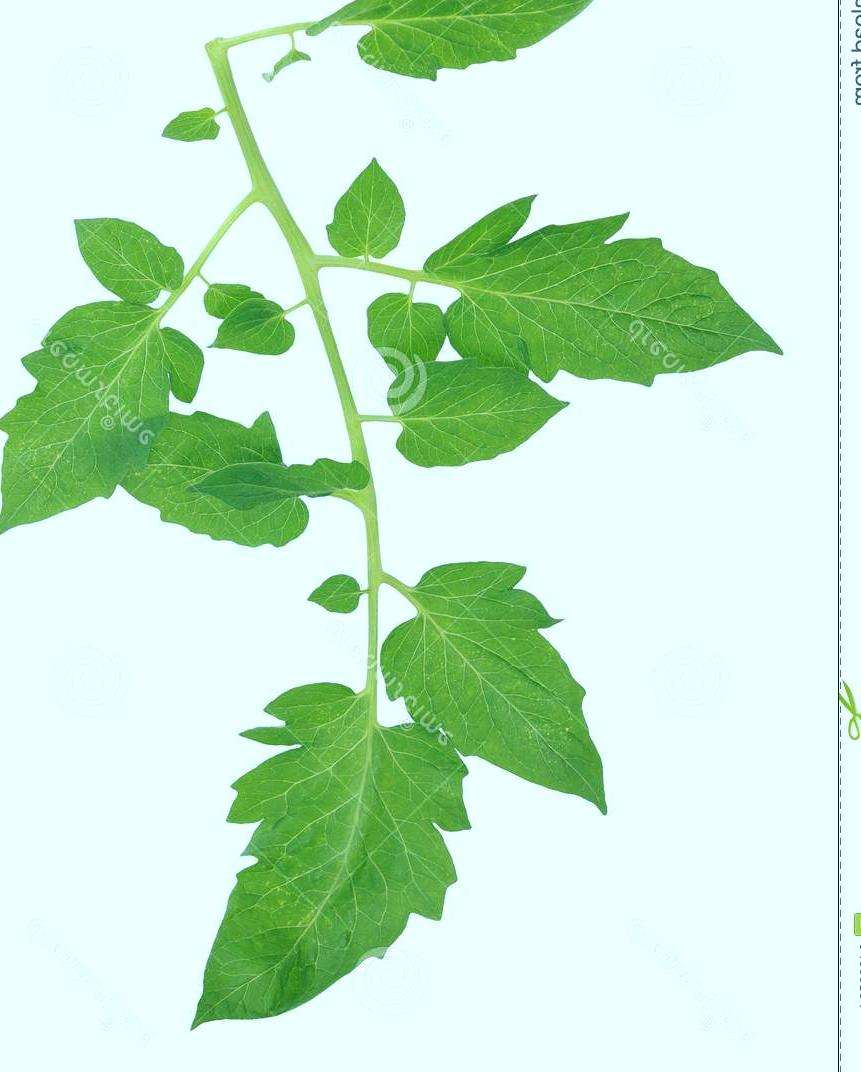Tomato leaf: (138, 670, 464, 1055), (357, 512, 645, 827), (421, 191, 804, 382), (0, 282, 202, 566), (121, 395, 330, 589), (364, 331, 602, 482), (326, 0, 636, 115)
